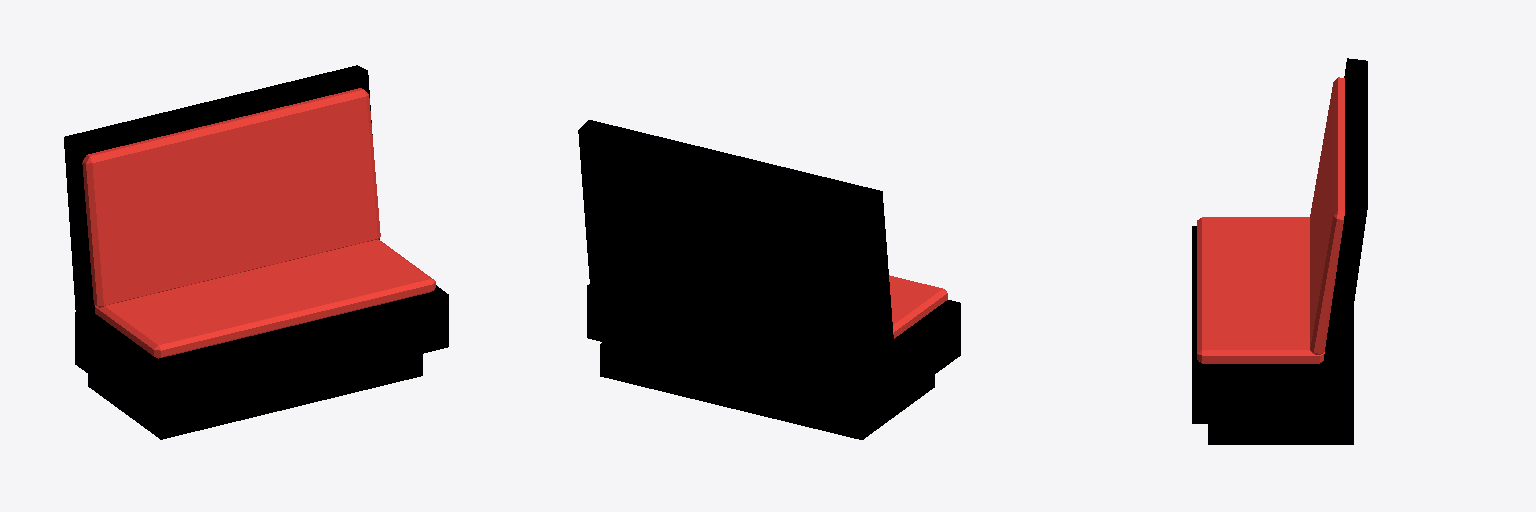
The picture shows the model from 3 angles: view 1: azimuth 30°, elevation 25°; view 2: azimuth 150°, elevation 25°; view 3: azimuth 270°, elevation 25°; orthographic projection.
Parts seen in each view (by area): view 1: polySurface12; view 2: polySurface12; view 3: polySurface12.
Boxes of the visible parts, x1,y1,x2,y2 form: polySurface12: [64, 65, 448, 439]; polySurface12: [578, 120, 960, 439]; polySurface12: [1192, 58, 1367, 444].
Size of the model in its own units: 5.73 by 4.61 by 2.94.
3 materials, 1 textured.